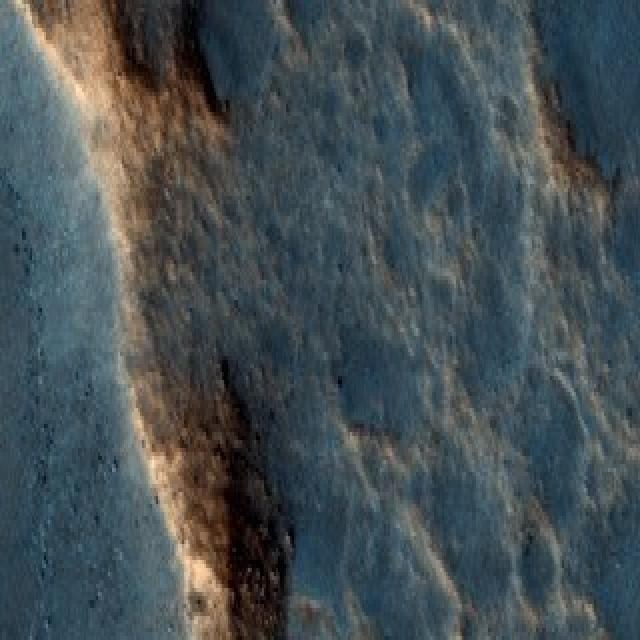Crater: (0, 0, 262, 640), (532, 0, 640, 204)
